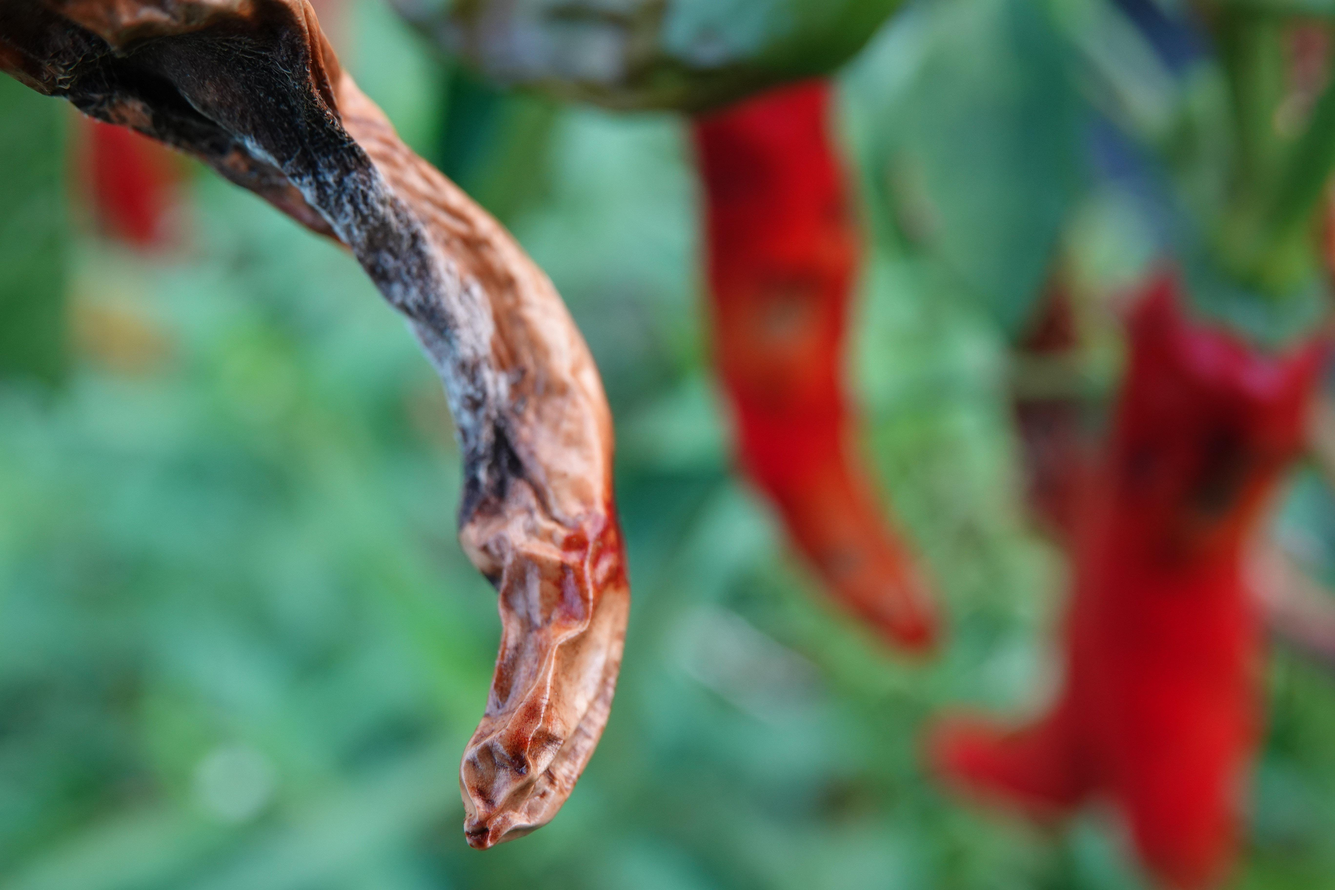Busuk Buah Antraknosa: (2, 1, 634, 852), (1047, 225, 1335, 890), (683, 71, 946, 663)
